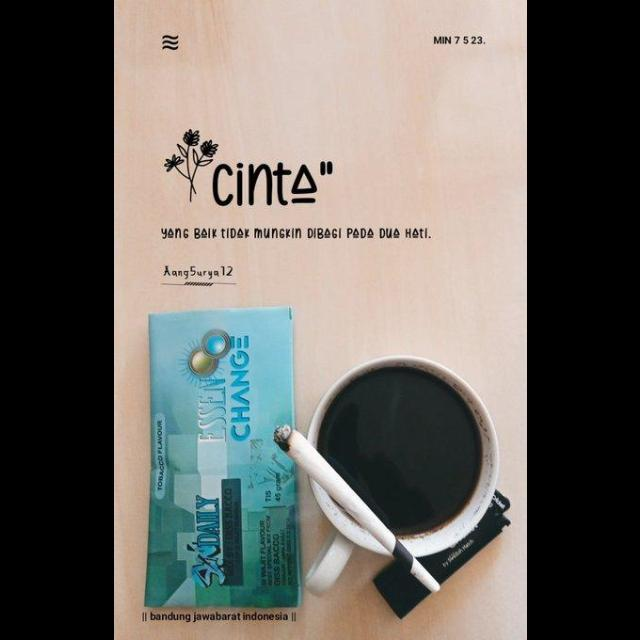rokok: (266, 422, 442, 598)
